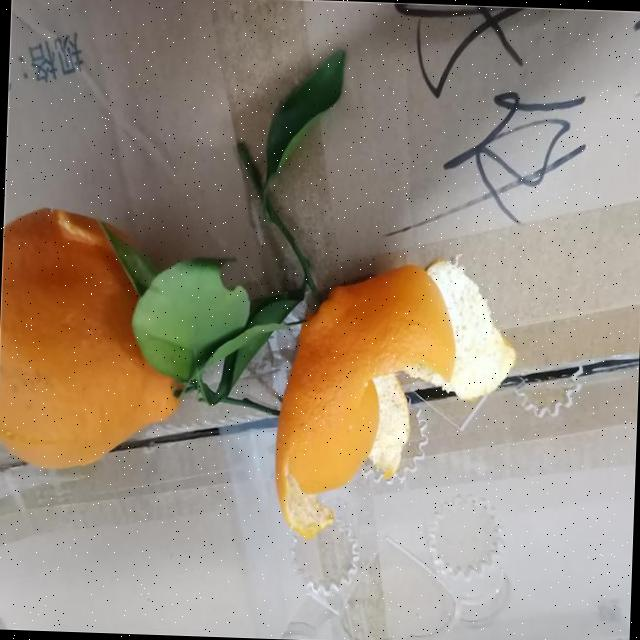orange-peel: (270, 256, 459, 542), (0, 203, 189, 473)
